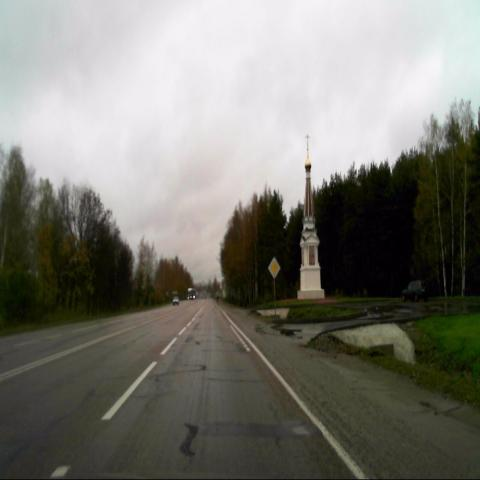2_1: (267, 255, 281, 281)
